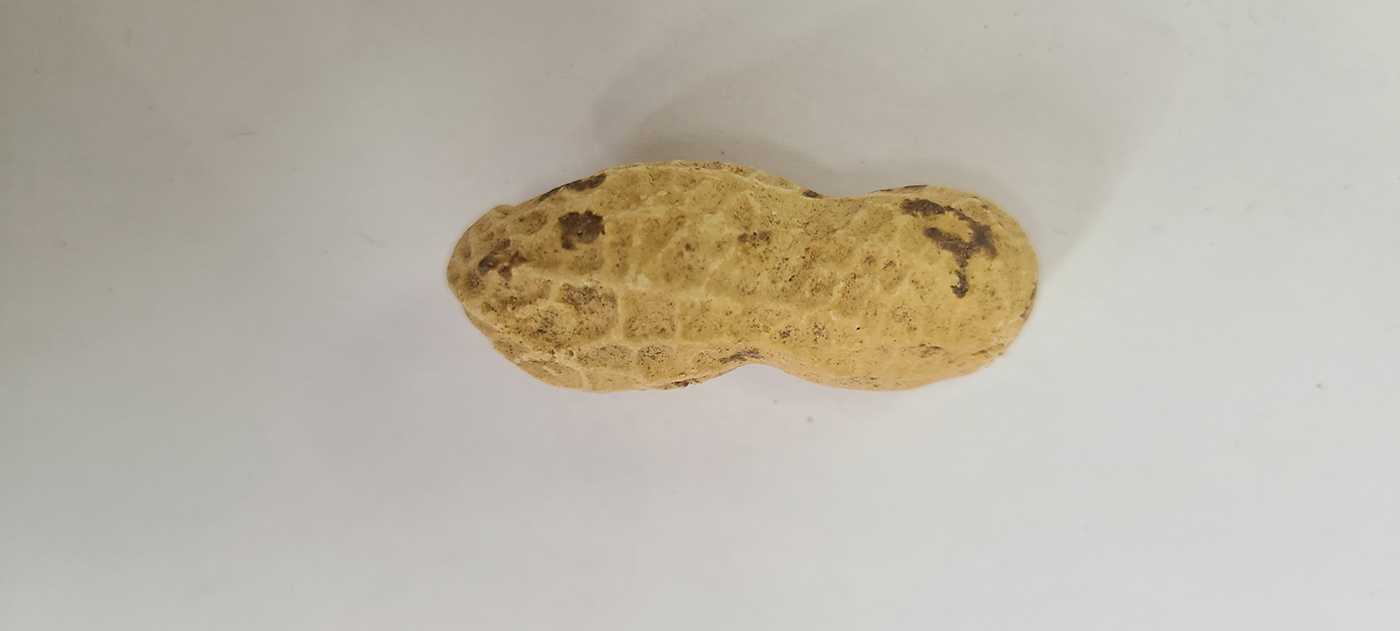h: (449, 148, 1043, 399)
